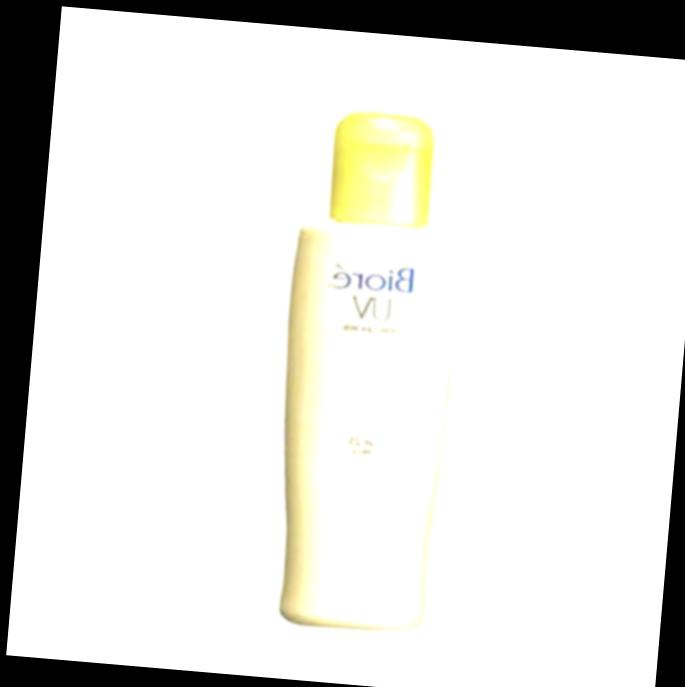cosmetic: (262, 101, 473, 636)
